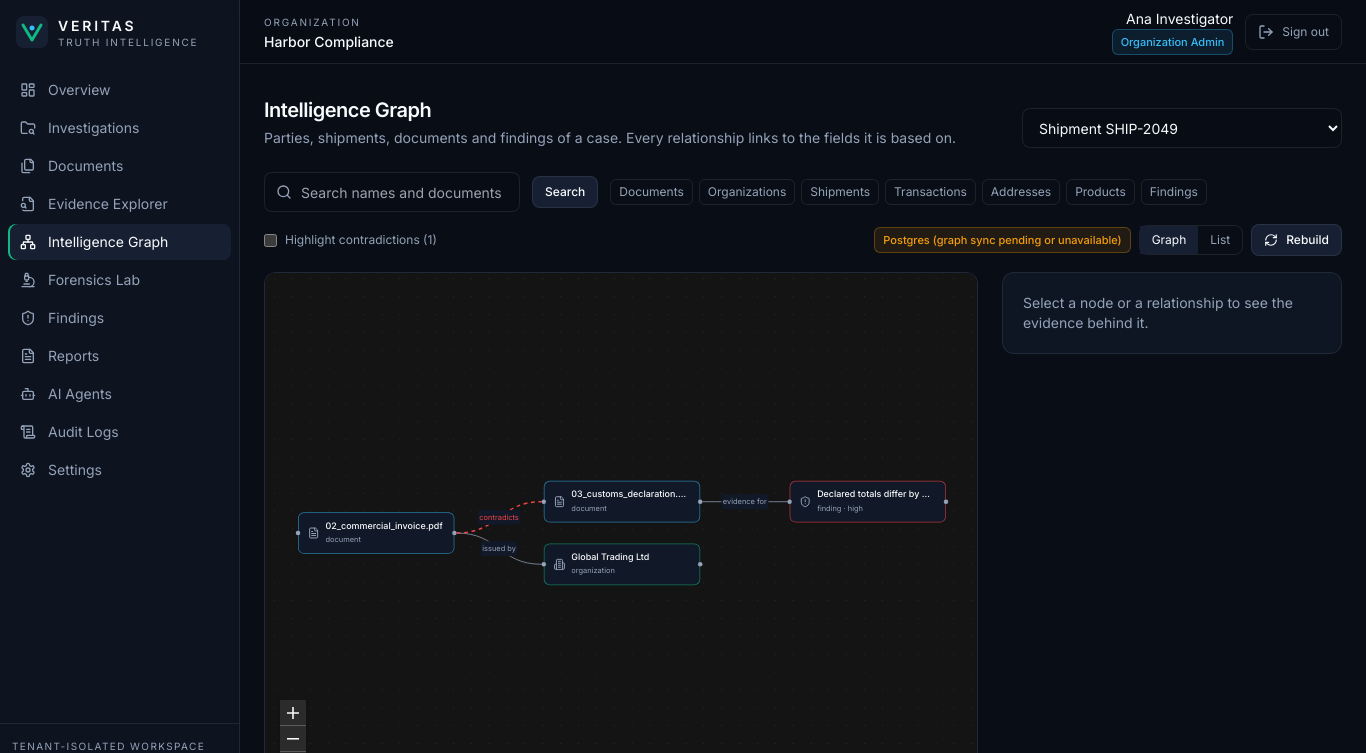
it: rebuild calls the API and reports the counts
This screenshot has width=1366, height=753.
Click the button "Rebuild" at (1297, 240), box 1251,224 -> 1342,256
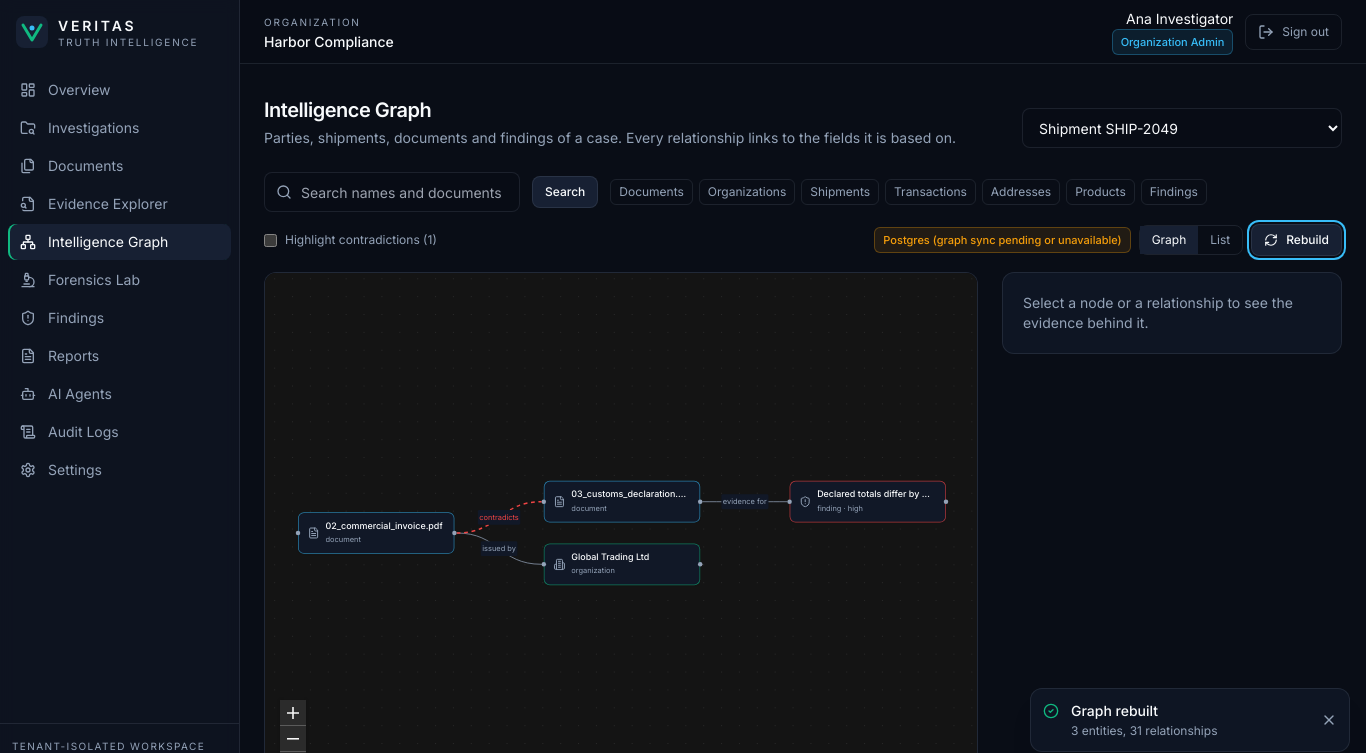
Result: the text "Graph rebuilt" is shown at 1071,702 -> 1158,719
